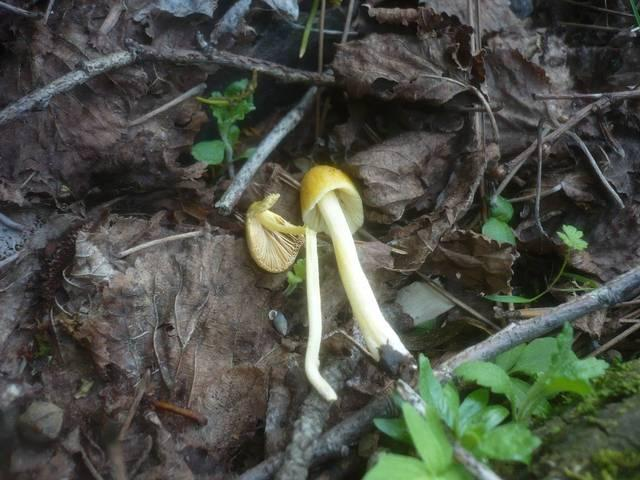Edible Mushroom: (244, 162, 417, 402)
